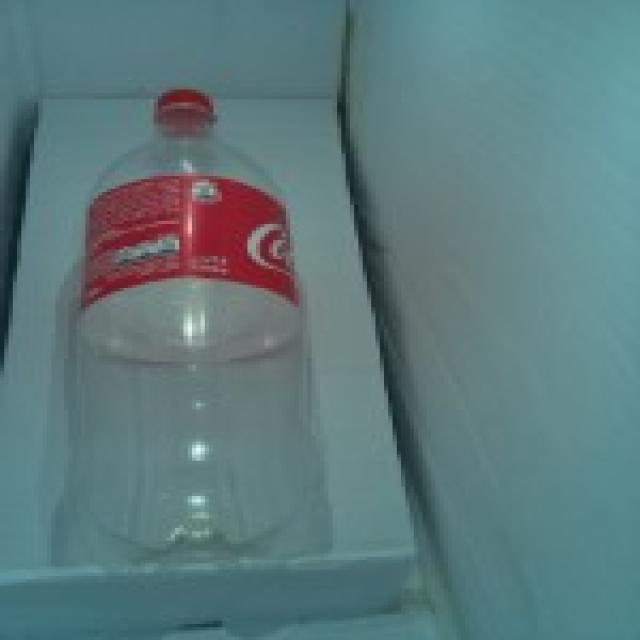good: (44, 81, 326, 574)
